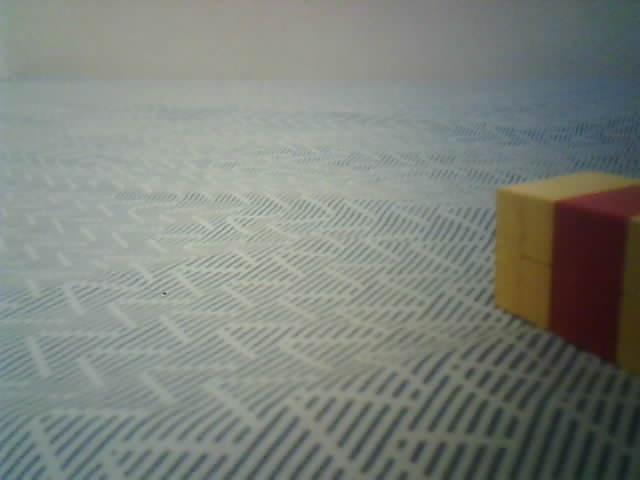lego: (493, 168, 640, 379)
